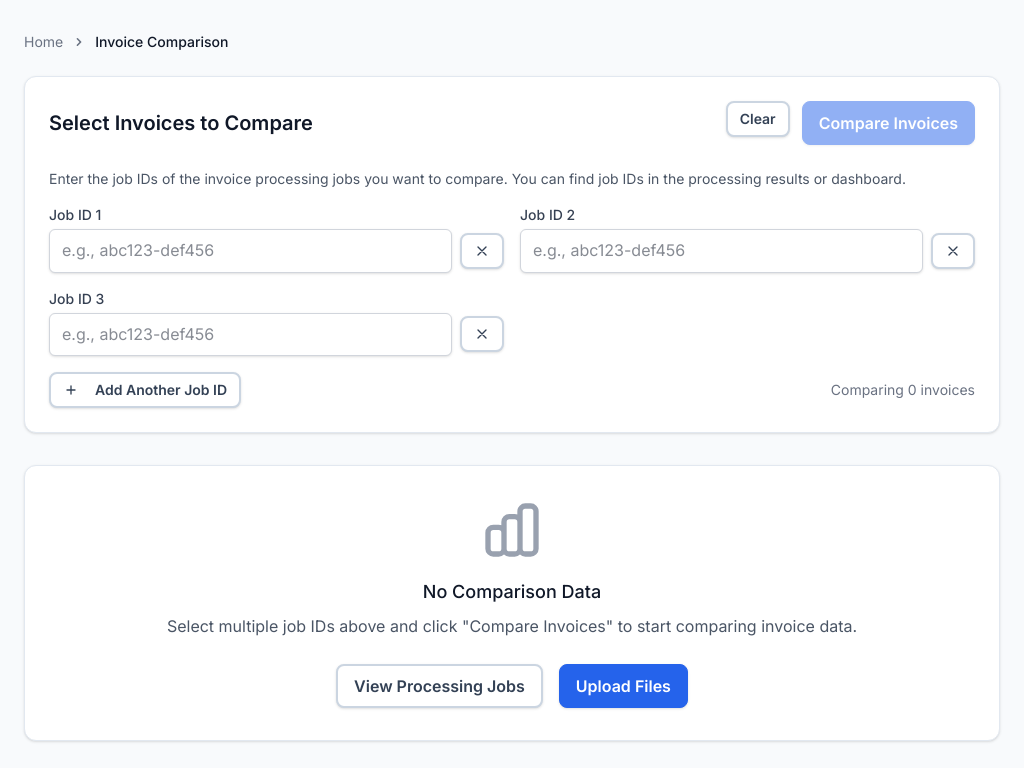
ComparisonPage Integration › should allow adding more job ID inputs
Step 1. Click the button "Add Another Job ID" → (145, 390), box [49,372,241,408]
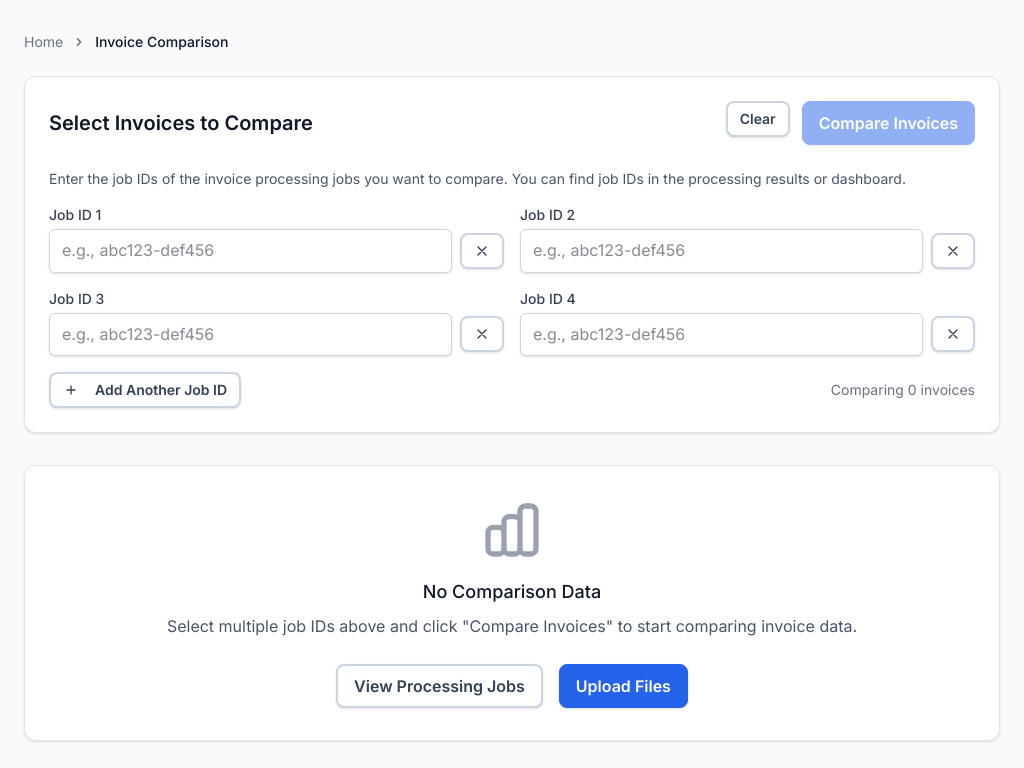
Check: the field labelled "Job ID 4" is shown, box [520,313,923,356]
